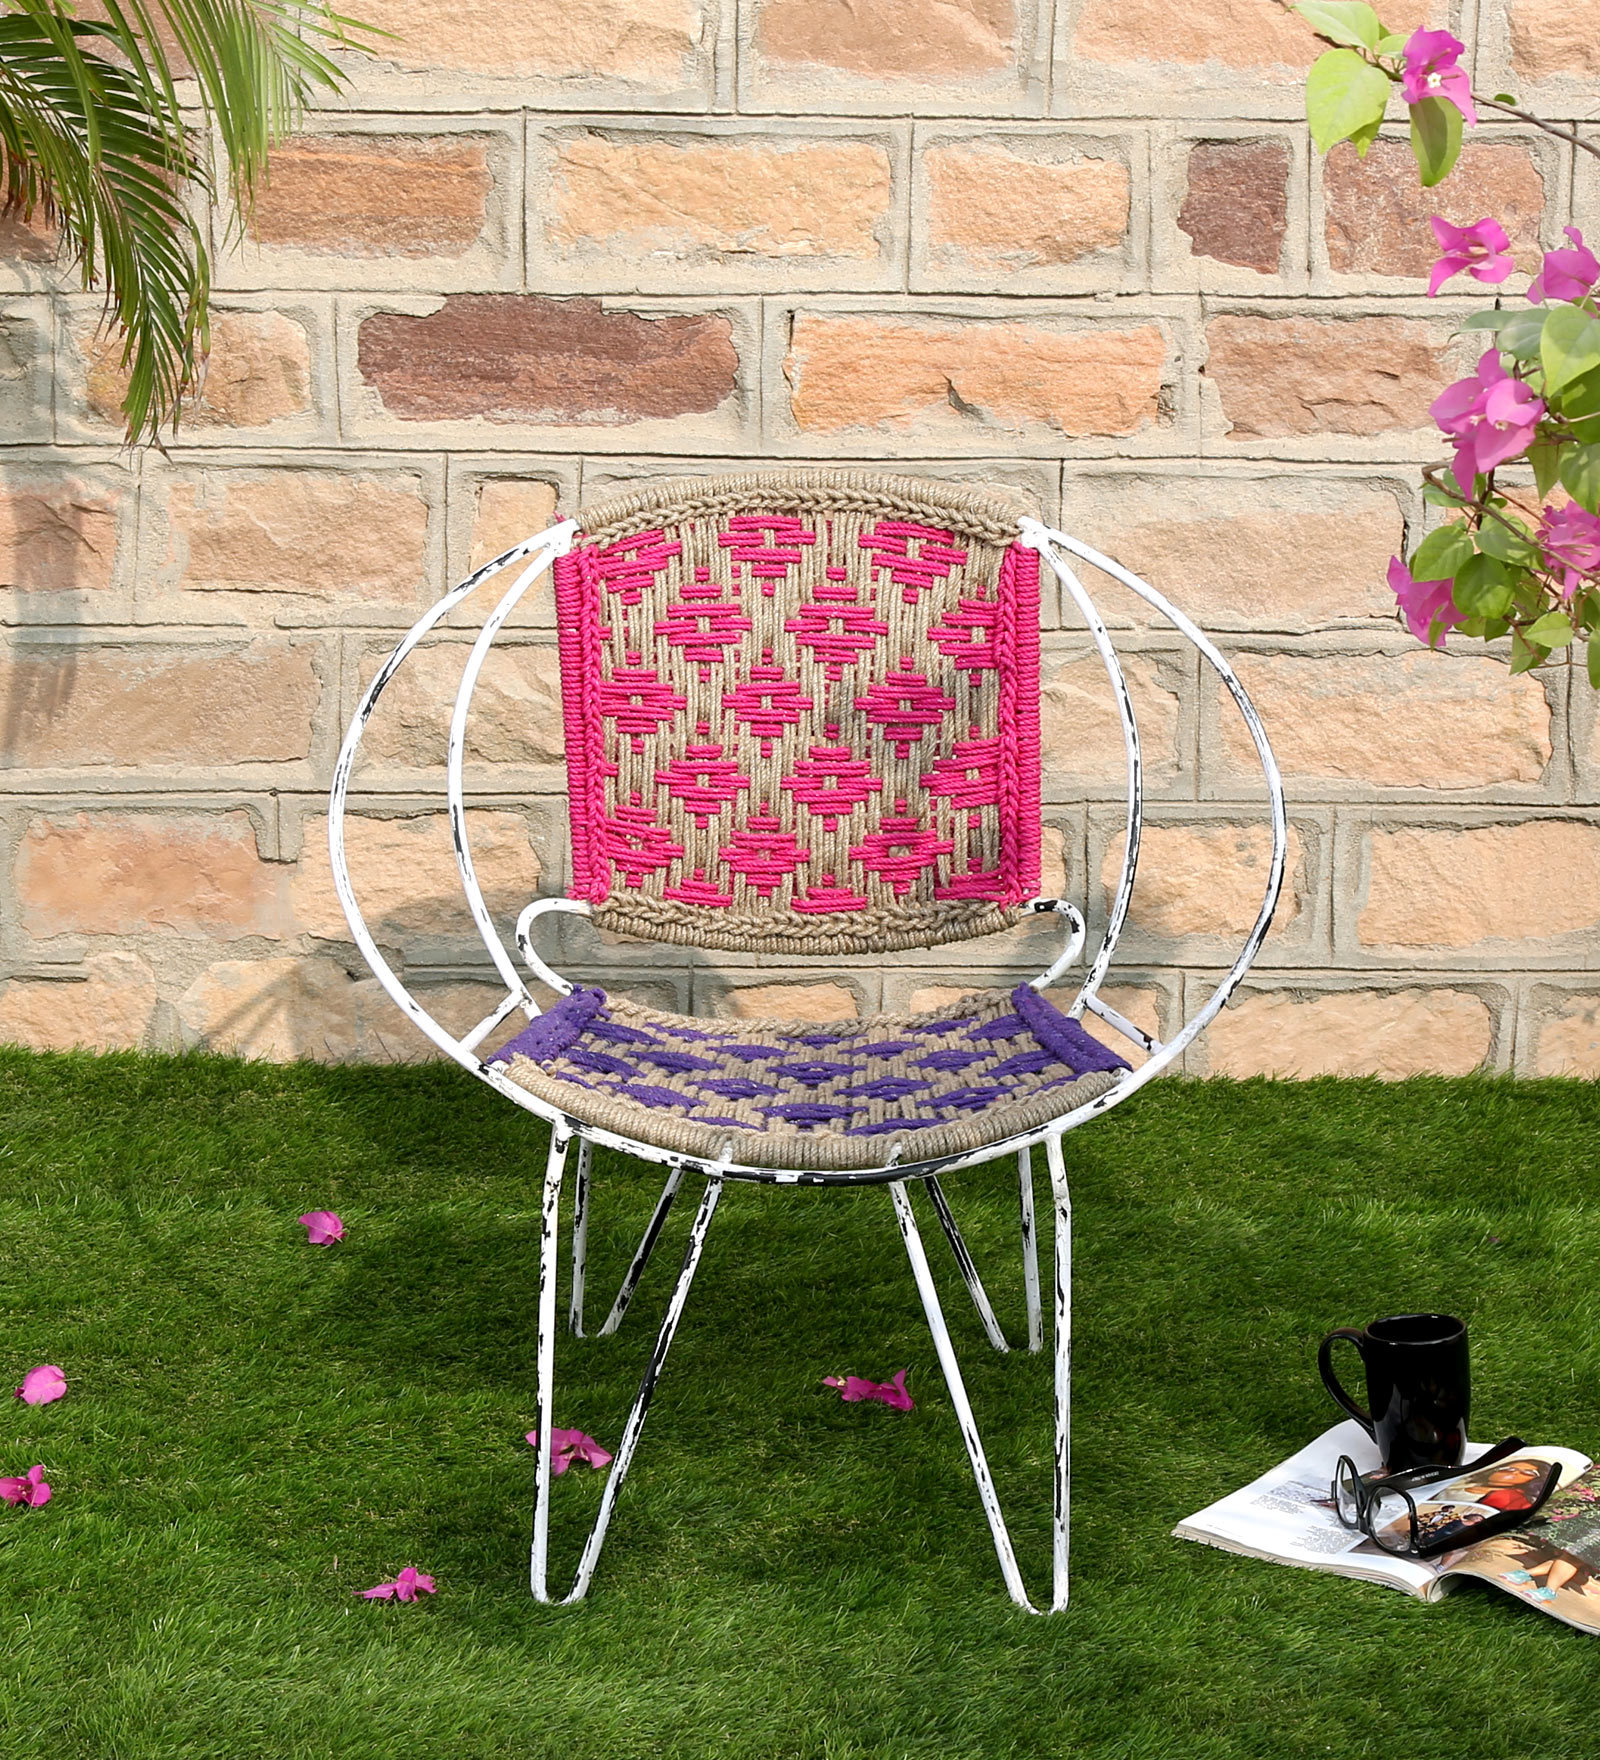Ambatovy Outdoor Chair in Multicolour by Bohemiana: (268, 458, 1310, 1642)
